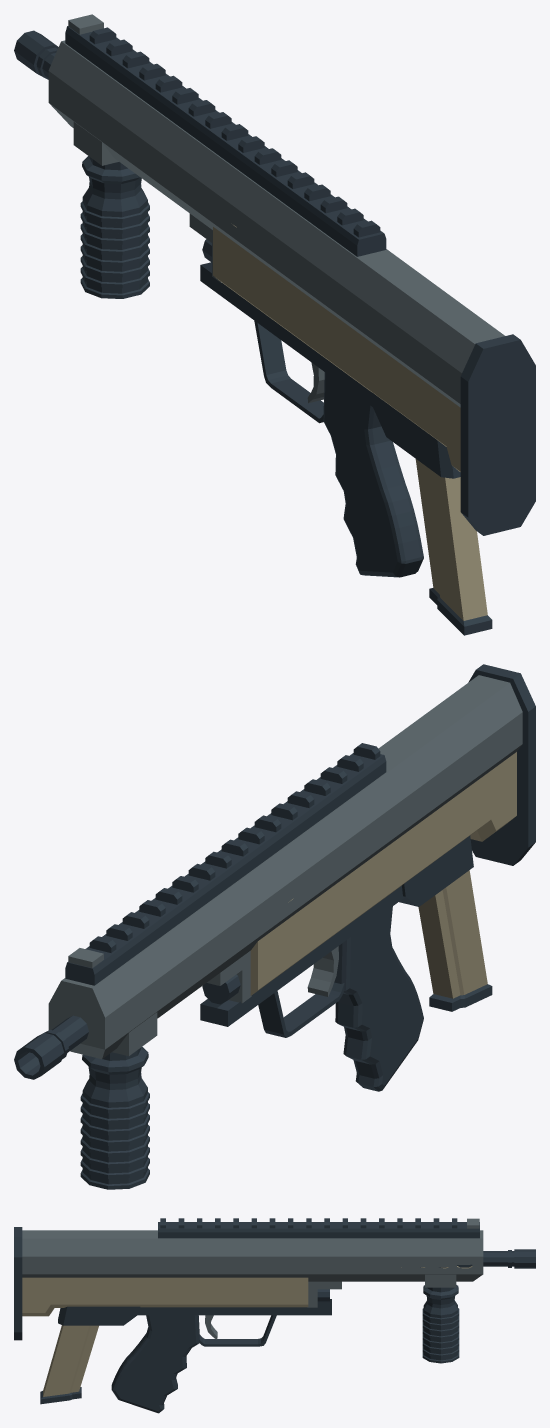
The model's file is bulldog.glb.
The picture shows the model from 3 angles, top to bottom: view 1: azimuth 30°, elevation 25°; view 2: azimuth 150°, elevation 25°; view 3: azimuth 270°, elevation 25°; orthographic projection. The views are drawn at different scales.
Parts seen in each view (by area): view 1: bulldog; view 2: bulldog; view 3: bulldog.
Part boxes in pixels (box(x1,y1,x2,y2)): bulldog: box(14, 14, 535, 635); bulldog: box(14, 664, 535, 1189); bulldog: box(14, 1218, 535, 1413).
Bounding box in the file's own units: 0.1055 × 0.516 × 1.28.
